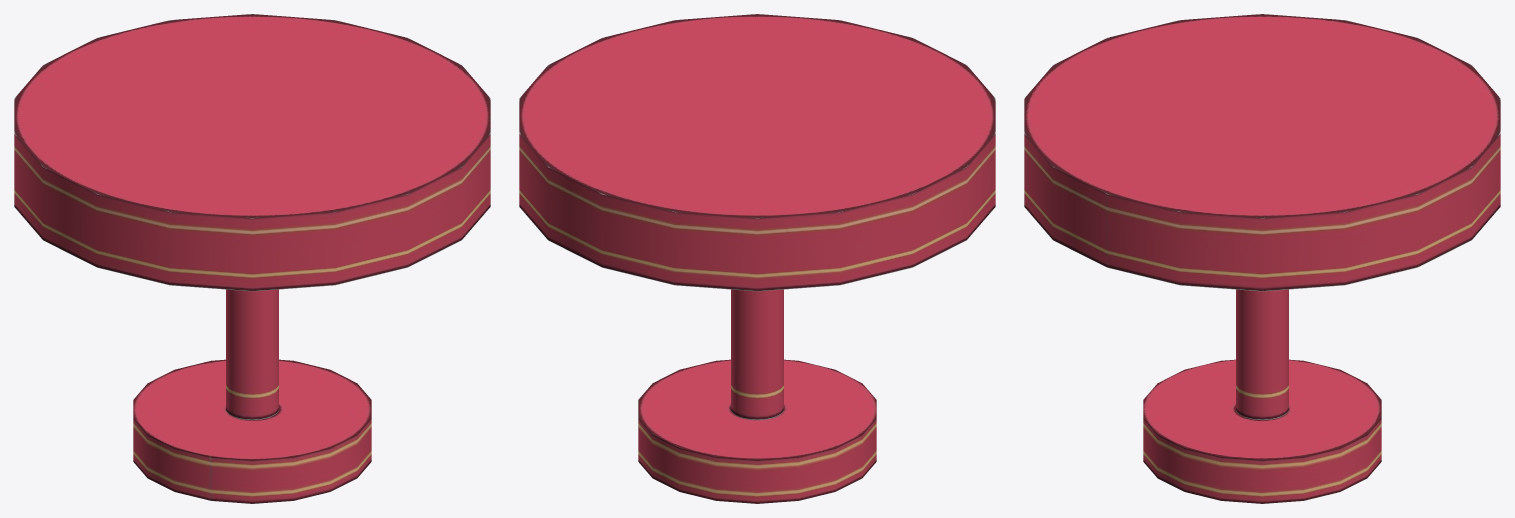
File: Nut_Table.fbx
3 renders of one model, left to right at view 1: azimuth 30°, elevation 25°; view 2: azimuth 150°, elevation 25°; view 3: azimuth 270°, elevation 25°, orthographic.
Visible parts, largest first — view 1: Cylinder001; view 2: Cylinder001; view 3: Cylinder001.
Boxes of the visible parts, x1,y1,x2,y2 form: Cylinder001: (14,14,490,503); Cylinder001: (519,14,995,503); Cylinder001: (1024,14,1500,503).
Size of the model in its own units: 59.87 by 46 by 58.96.
Materials: 1 (1 with a texture image).
